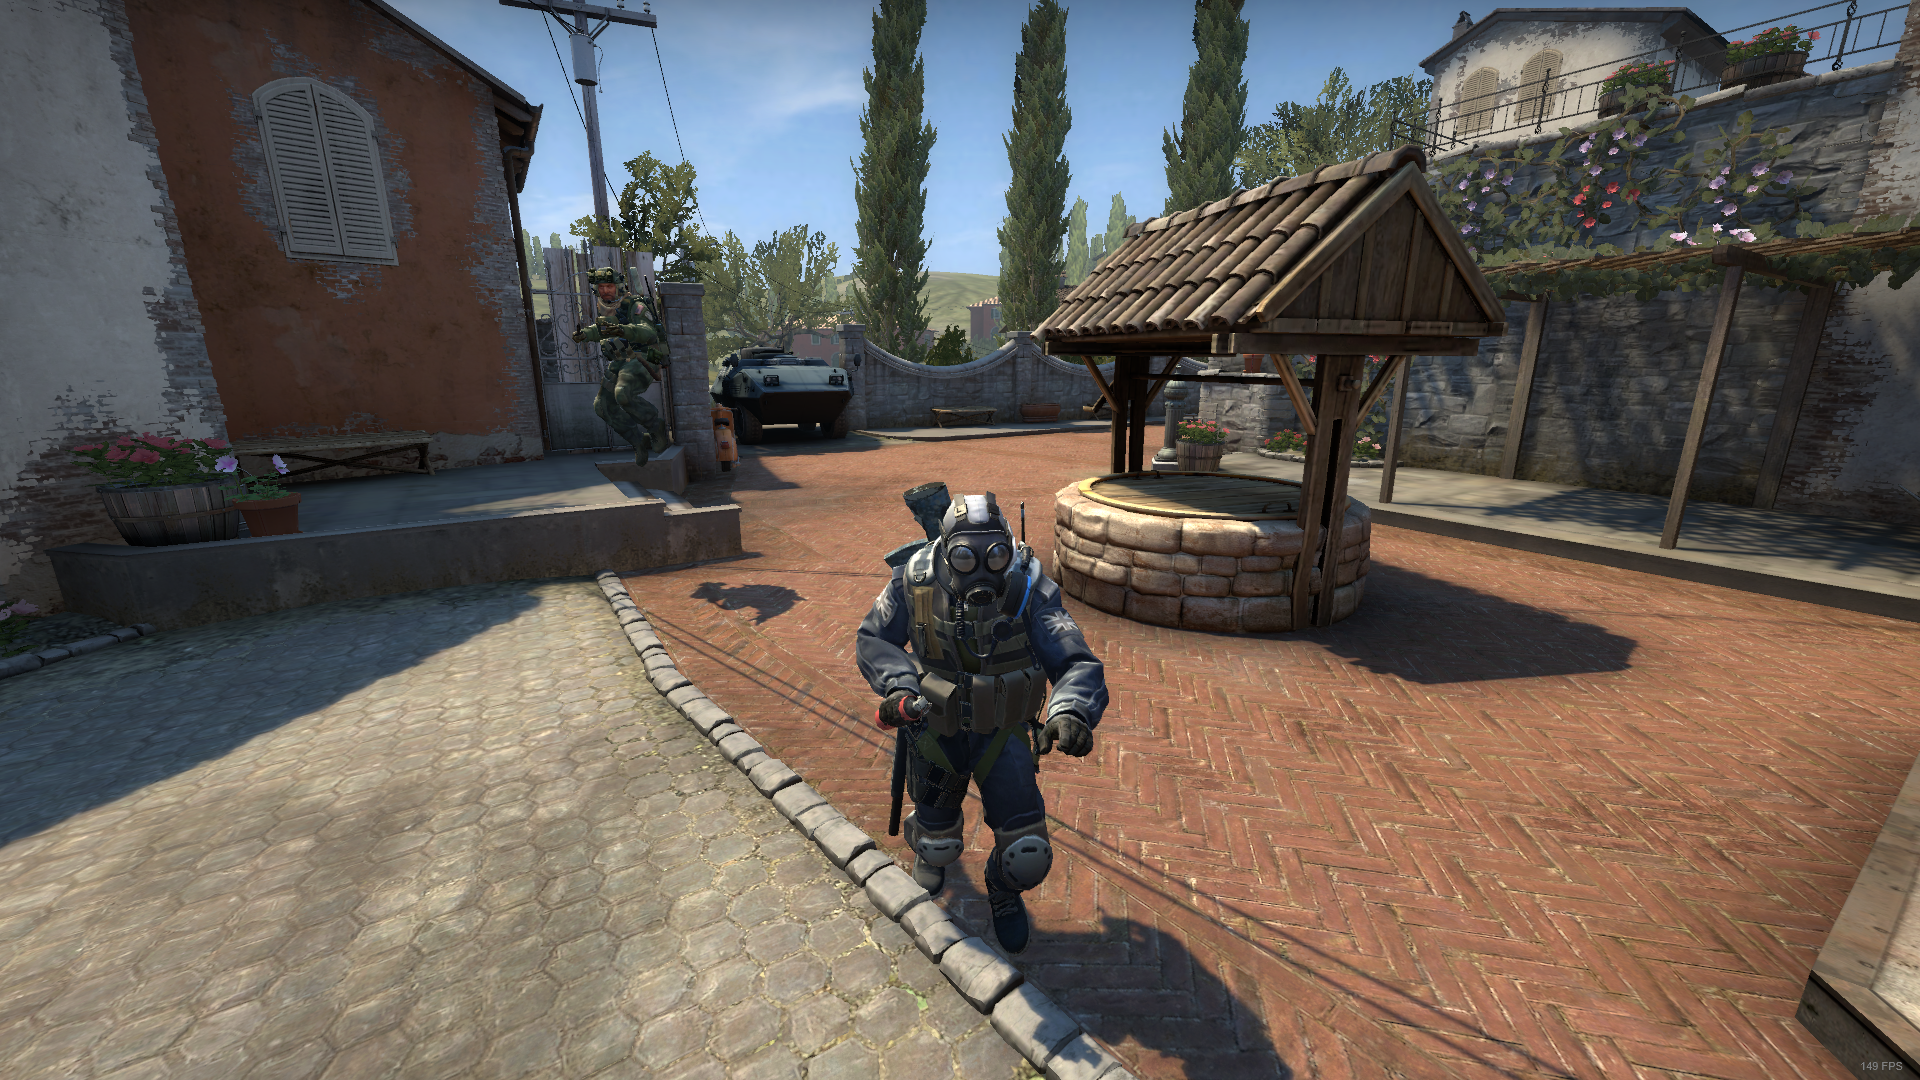ct: (849, 475, 1102, 975)
